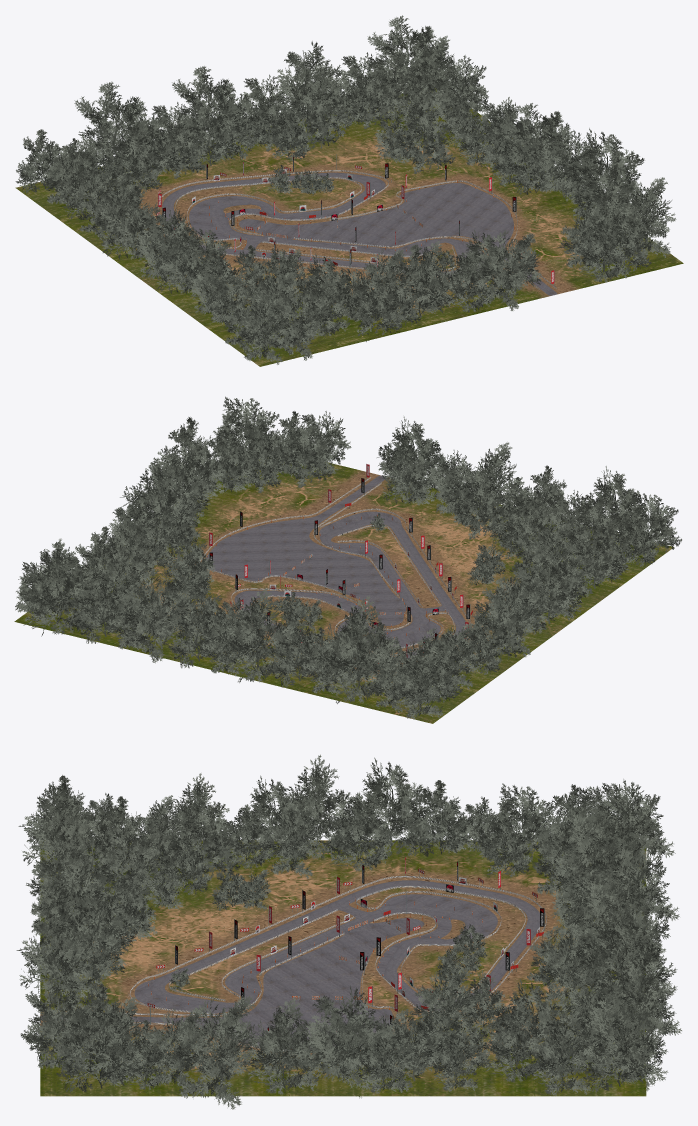
File: drift_track.glb
3 views of the same model, one above another, from view 1: azimuth 30°, elevation 25°; view 2: azimuth 150°, elevation 25°; view 3: azimuth 270°, elevation 25° (orthographic). The views are drawn at different scales.
Parts seen in each view (by area): view 1: Terrain_0, Road_1, Bush.024_170, Bush.076_222, Bush.086_232, Bush.006_152, Bush.028_174, Bush.055_201, Bush.034_180, Bush.042_188, Bush.089_235, Bush.079_225 (+60 smaller); view 2: Terrain_0, Road_1, Bush.024_170, Bush.034_180, Bush.042_188, Bush.028_174, Bush.079_225, Bush.055_201, Bush.076_222, Bush.080_226, Bush.086_232, Bush.030_176 (+59 smaller); view 3: Terrain_0, Road_1, Bush.024_170, Bush.076_222, Bush.042_188, Bush.055_201, Bush.034_180, Bush.070_216, Bush.028_174, Bush.080_226, Bush.078_224, Bush.086_232 (+63 smaller).
Part boxes in pixels (x1=…): Terrain_0: x1=15, y1=88, x2=683, y2=366; Road_1: x1=162, y1=172, x2=557, y2=295; Bush.024_170: x1=74, y1=81, x2=164, y2=172; Bush.076_222: x1=565, y1=128, x2=644, y2=206; Bush.086_232: x1=476, y1=230, x2=541, y2=310; Bush.006_152: x1=271, y1=279, x2=335, y2=360; Bush.028_174: x1=172, y1=66, x2=251, y2=152; Bush.055_201: x1=496, y1=103, x2=574, y2=191; Bush.034_180: x1=272, y1=41, x2=344, y2=128; Bush.042_188: x1=367, y1=15, x2=447, y2=107; Bush.089_235: x1=388, y1=244, x2=457, y2=320; Bush.079_225: x1=134, y1=210, x2=200, y2=287; Terrain_0: x1=14, y1=460, x2=673, y2=723; Road_1: x1=205, y1=475, x2=465, y2=658; Bush.024_170: x1=319, y1=595, x2=400, y2=703; Bush.034_180: x1=117, y1=569, x2=197, y2=663; Bush.042_188: x1=18, y1=538, x2=96, y2=636; Bush.028_174: x1=223, y1=588, x2=294, y2=682; Bush.079_225: x1=513, y1=553, x2=582, y2=634; Bush.055_201: x1=120, y1=458, x2=196, y2=541; Bush.076_222: x1=150, y1=417, x2=224, y2=498; Bush.080_226: x1=483, y1=577, x2=548, y2=657; Bush.086_232: x1=377, y1=416, x2=445, y2=494; Bush.030_176: x1=168, y1=603, x2=227, y2=668; Terrain_0: x1=40, y1=840, x2=646, y2=1096; Road_1: x1=41, y1=880, x2=539, y2=1050; Bush.024_170: x1=565, y1=779, x2=675, y2=903; Bush.076_222: x1=168, y1=995, x2=263, y2=1109; Bush.042_188: x1=587, y1=971, x2=681, y2=1091; Bush.055_201: x1=305, y1=985, x2=387, y2=1098; Bush.034_180: x1=571, y1=903, x2=677, y2=1010; Bush.070_216: x1=56, y1=999, x2=146, y2=1092; Bush.028_174: x1=583, y1=852, x2=679, y2=945; Bush.080_226: x1=346, y1=757, x2=438, y2=856; Bush.078_224: x1=248, y1=997, x2=320, y2=1094; Bush.086_232: x1=16, y1=907, x2=95, y2=998.
Bounding box in the file's own units: 508 × 110 × 509.
5 materials, 4 textured.
